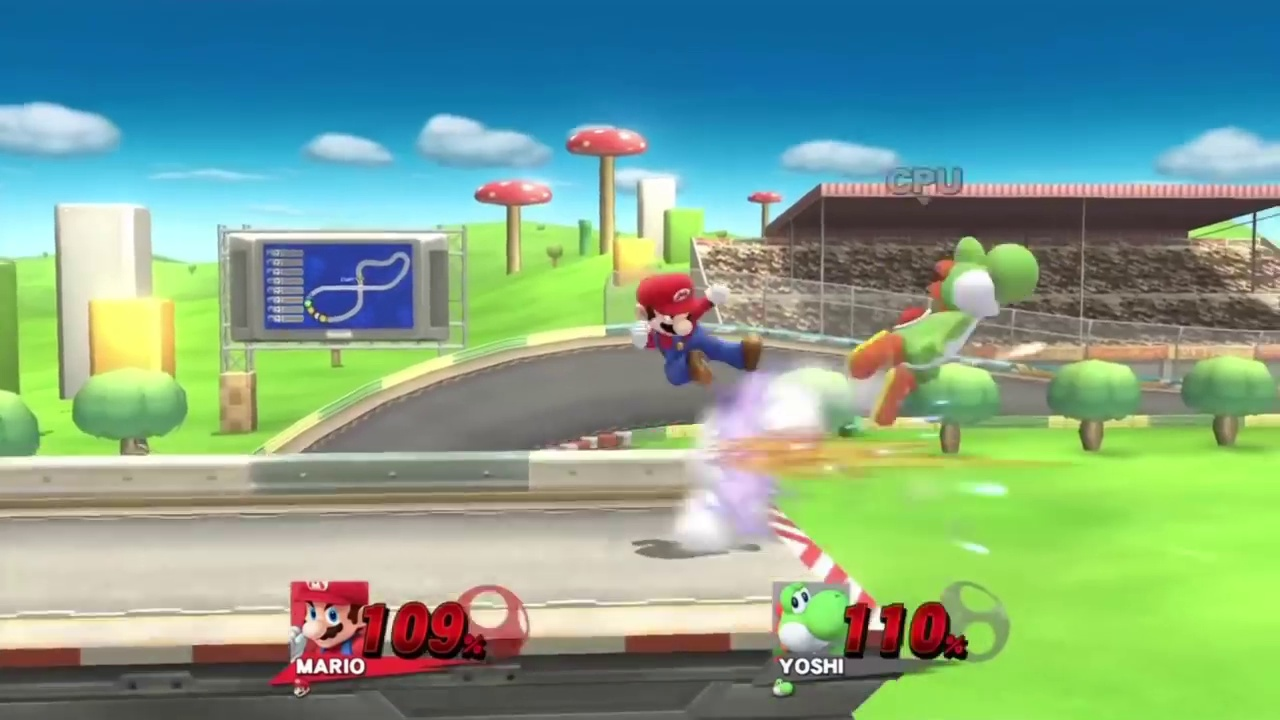Mario: (633, 274, 760, 387)
